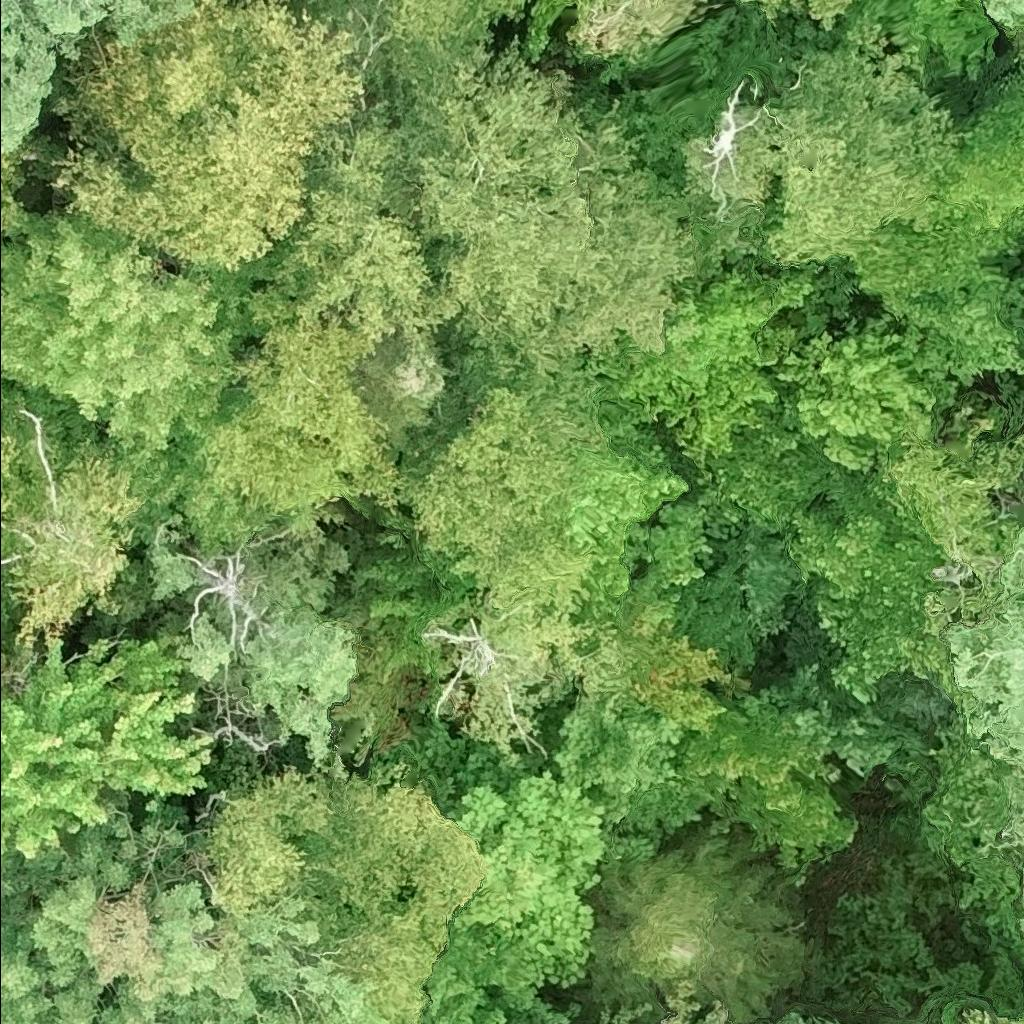crown: (961, 1008, 1021, 1023)
